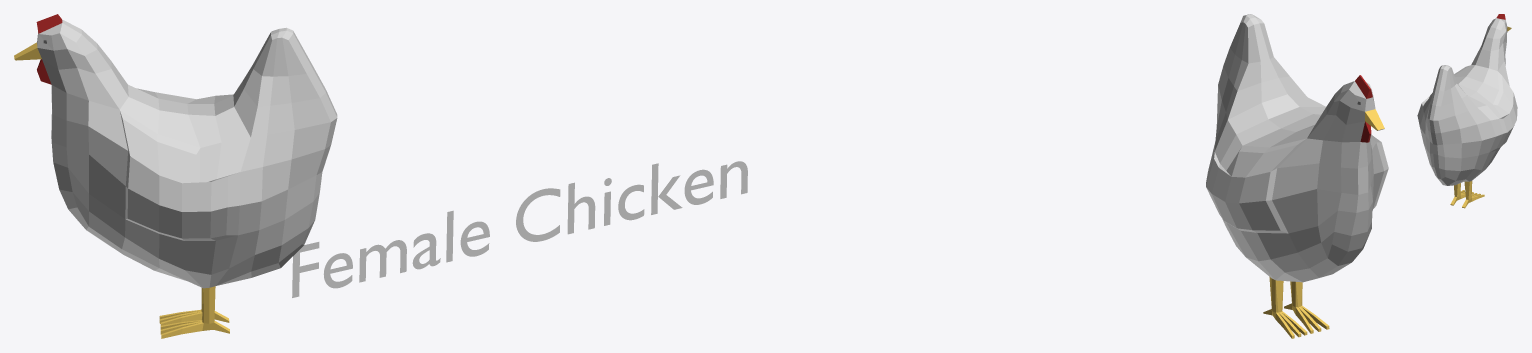
The model's file is white.gltf.
3 views of the same model, side by side, from view 1: azimuth 30°, elevation 25°; view 2: azimuth 150°, elevation 25°; view 3: azimuth 270°, elevation 25° (orthographic). The views are drawn at different scales.
Visible parts, largest first — view 1: Chicken, Text; view 2: Chicken; view 3: Chicken.
Boxes of the visible parts, box(x1,y1,x2,y2) form: Chicken: box(14, 14, 337, 338); Text: box(292, 161, 747, 297); Chicken: box(1206, 14, 1388, 338); Chicken: box(1417, 14, 1517, 208).
Size of the model in its own units: 0.9217 by 0.4028 by 0.2264.
